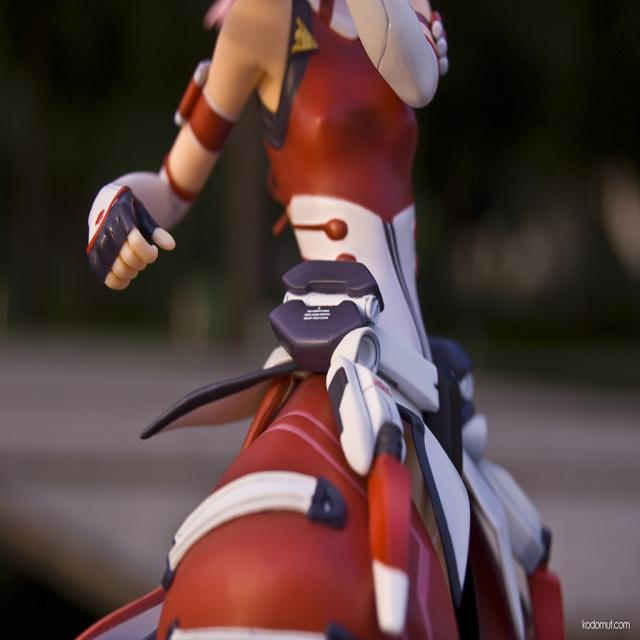Toy: (74, 0, 568, 639)
